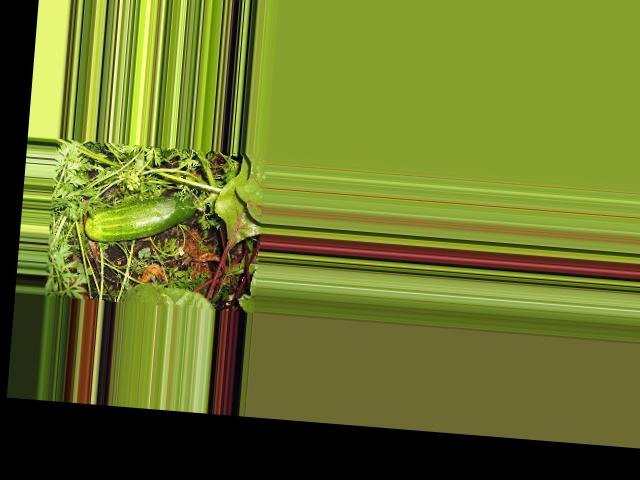cucumber: (85, 187, 197, 249)
